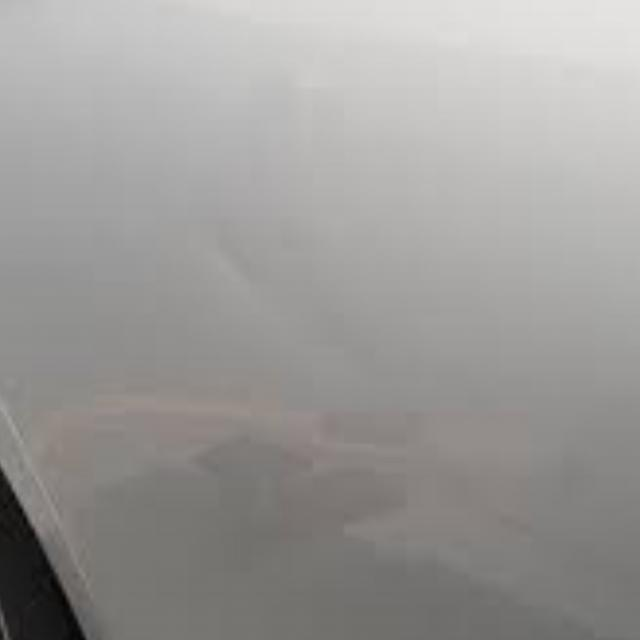dents: (202, 224, 278, 310)
